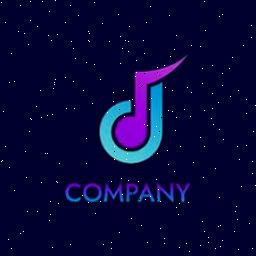a: (138, 180, 156, 208)
c: (61, 176, 81, 204)
m: (103, 180, 125, 206)
n: (156, 180, 174, 204)
o: (82, 180, 104, 204)
p: (124, 182, 140, 204)
y: (174, 178, 192, 204)
